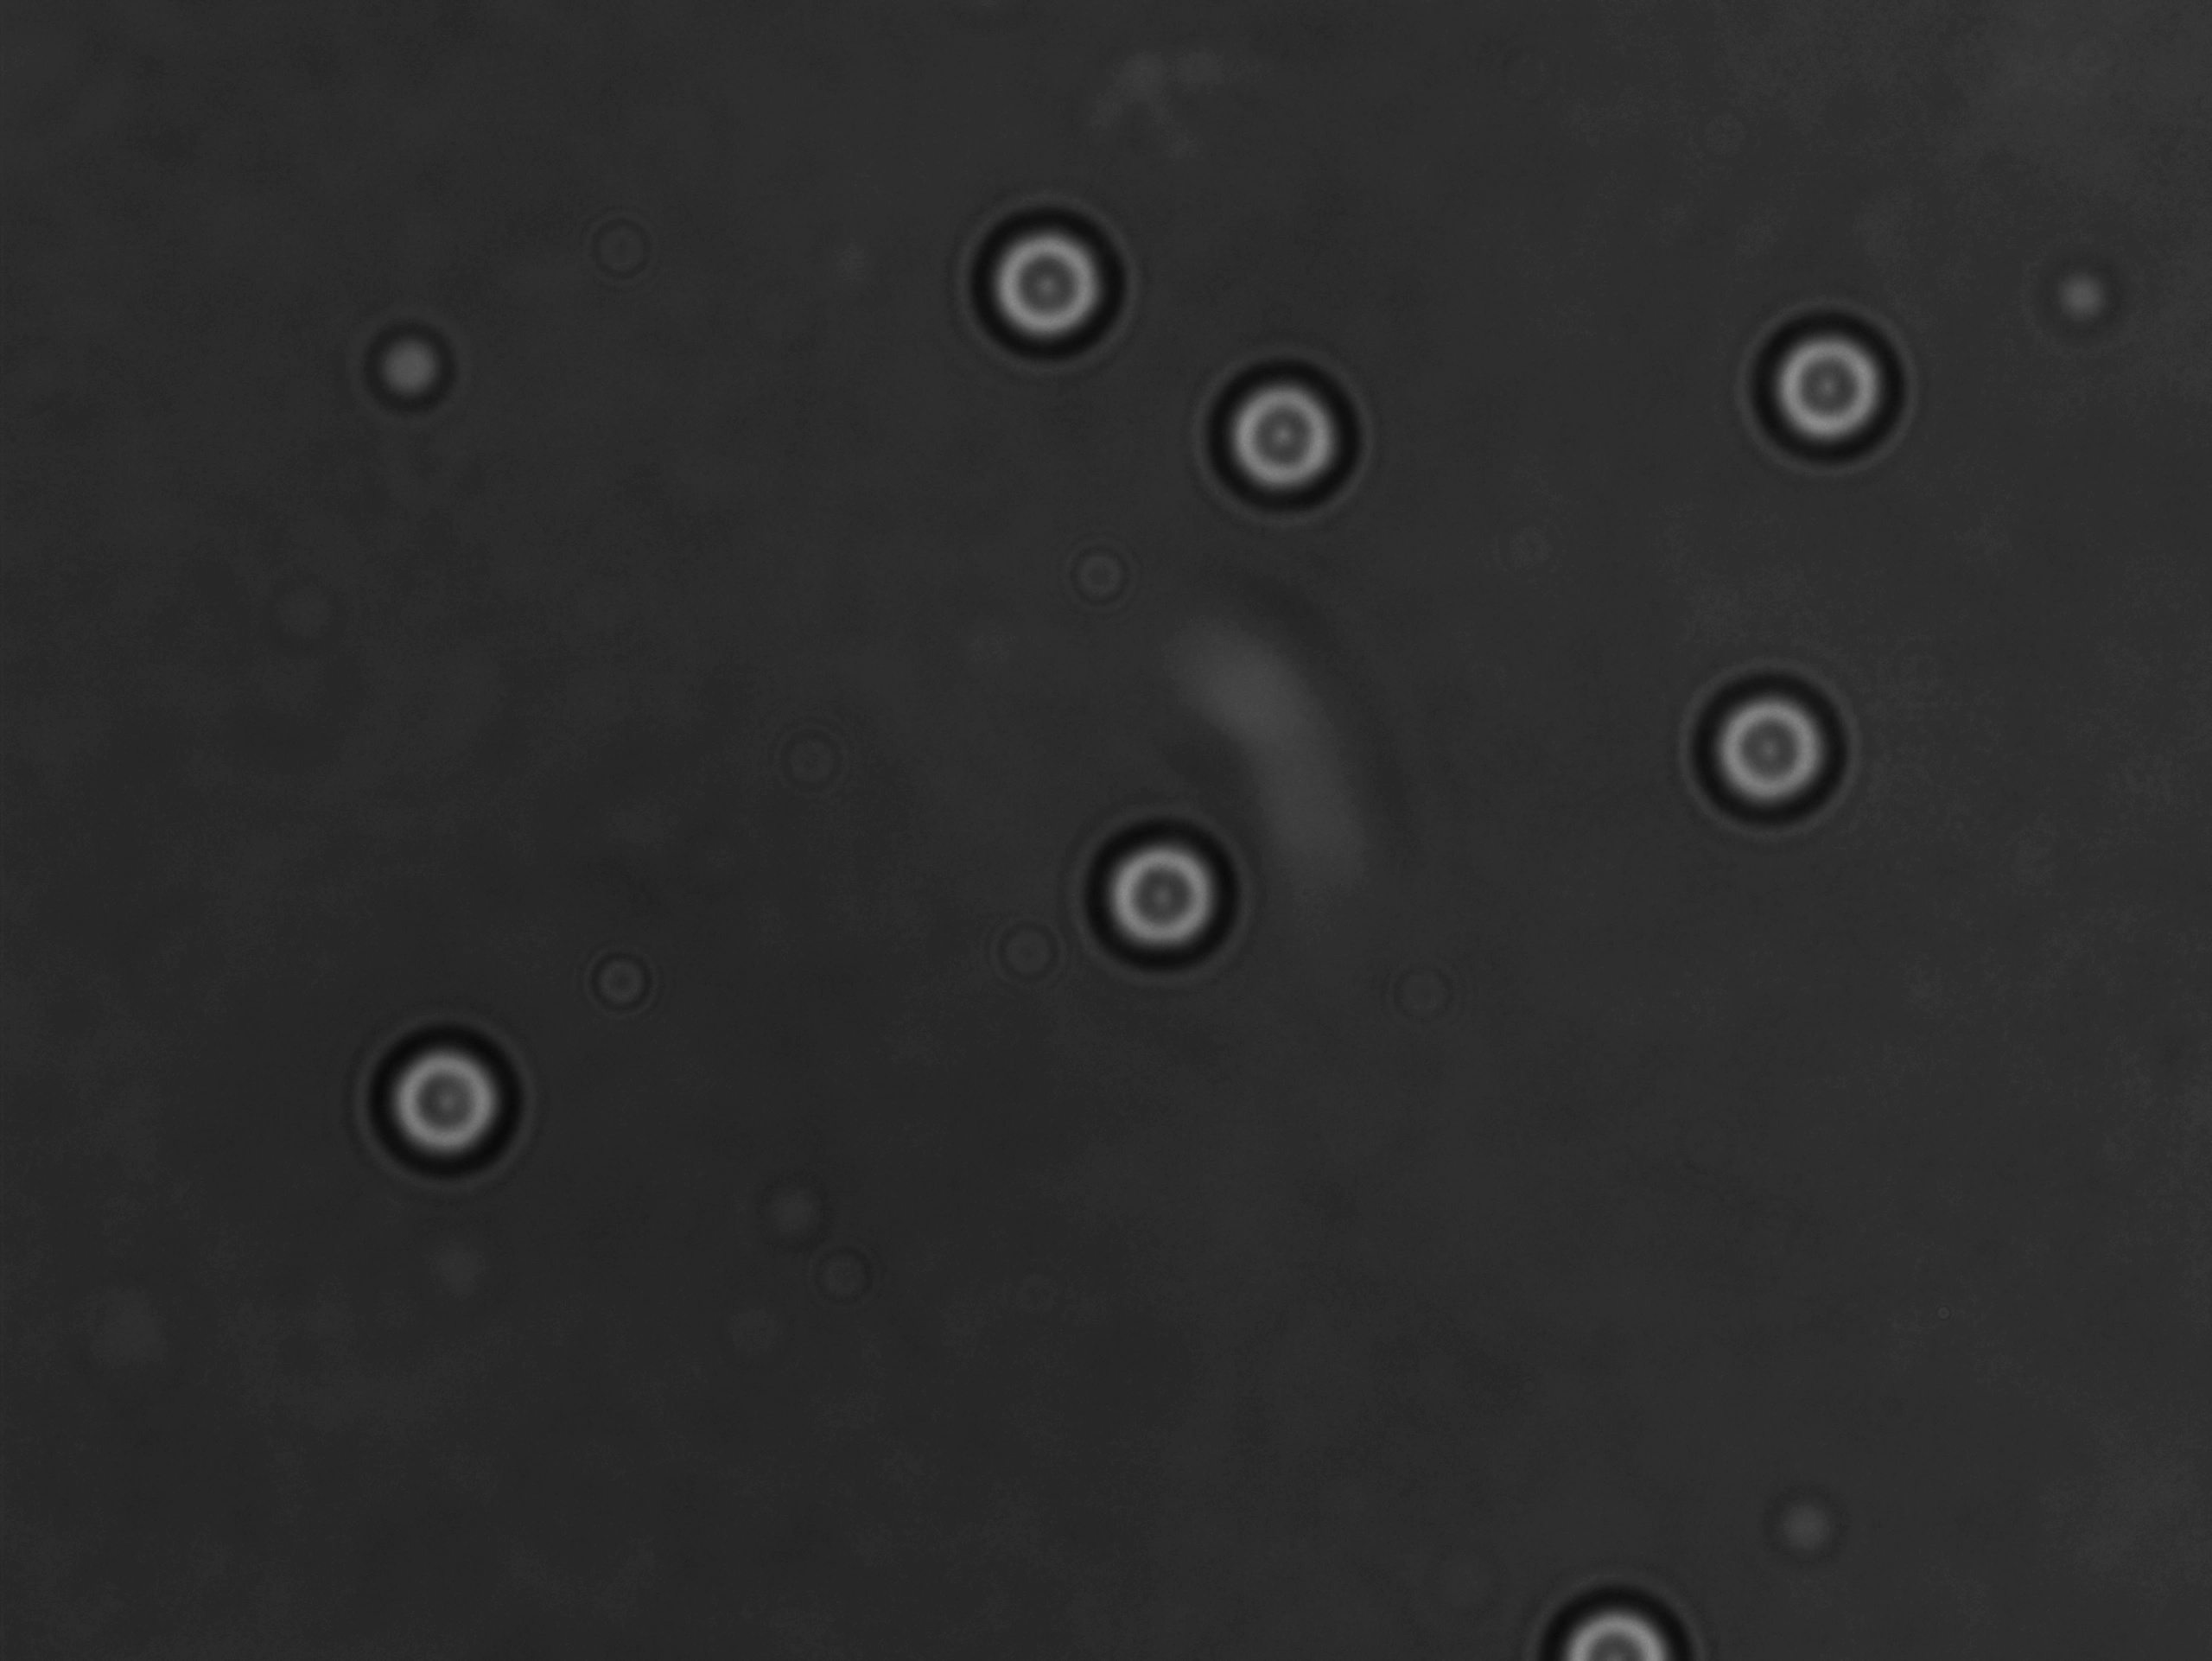depth:40: (354, 998, 562, 1207), (1190, 349, 1387, 530), (1057, 797, 1254, 979), (1738, 302, 1924, 487), (956, 192, 1134, 370), (1675, 654, 1853, 830)
